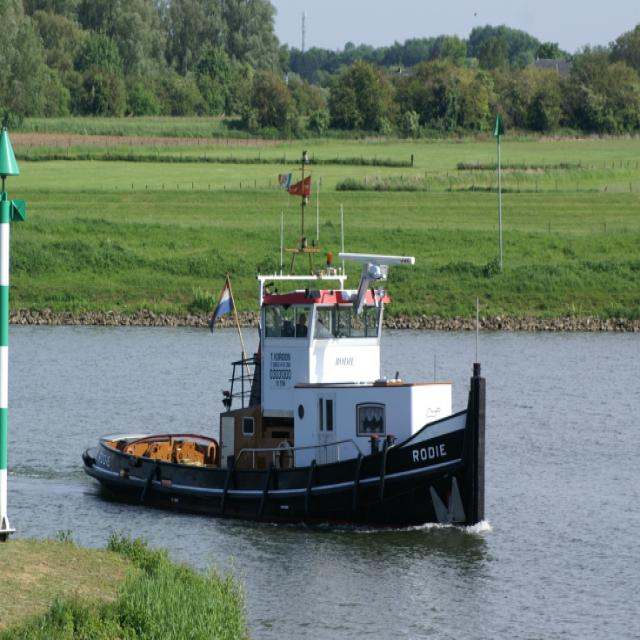tugboat: (80, 237, 492, 540)
